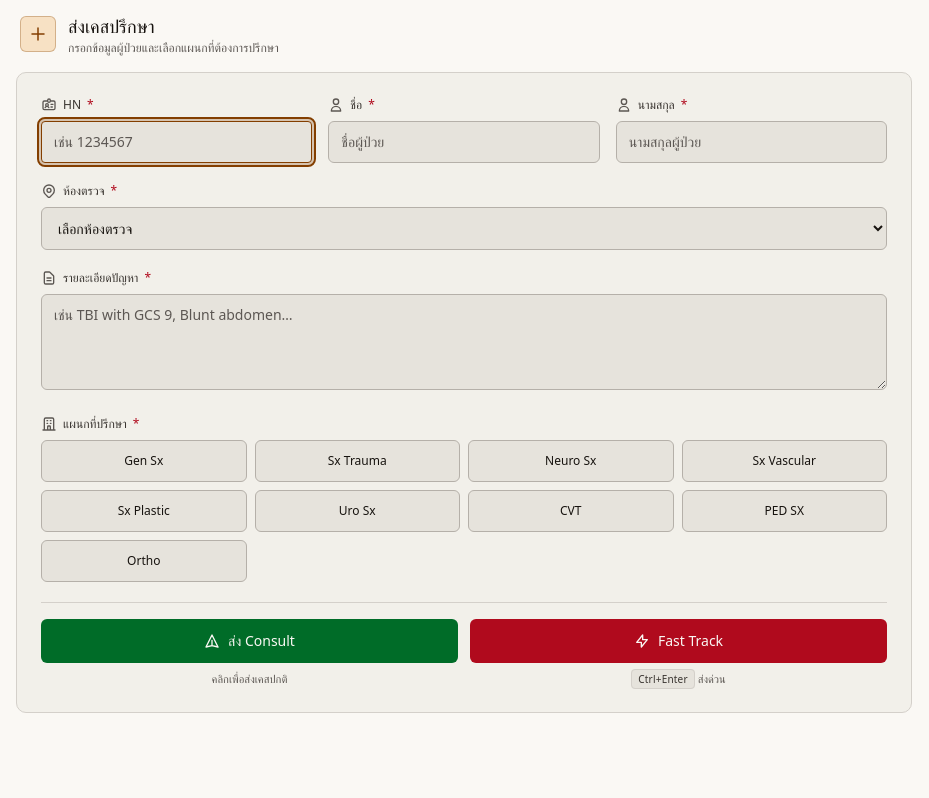
Test case: SubmitPage mount and redirect safety › does not overwrite dirty form when background failure arrives, offering explicit restore instead
Note: User starts typing a new consult while earlier submission is still settling
Type "999999" into the field labelled "HN *".
click(177, 142); type("999999")  # box [41, 121, 312, 163]
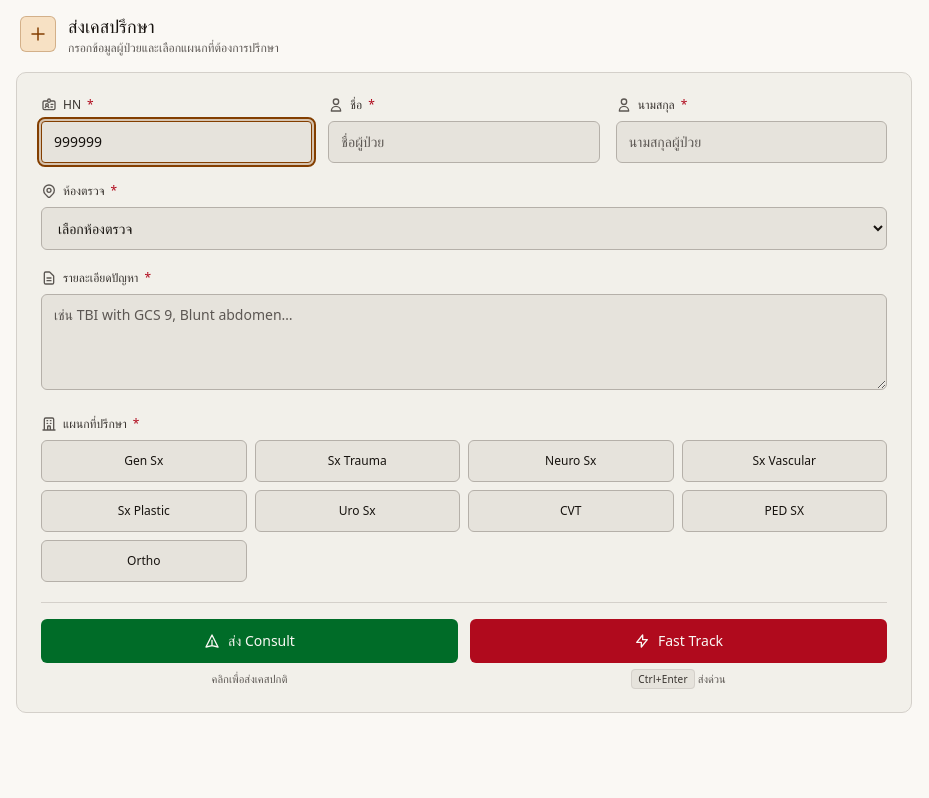
Type "ผู้ป่วยใหม่" into the field with placeholder "ชื่อผู้ป่วย".
click(464, 142); type("ผู้ป่วยใหม่")  # box [328, 121, 600, 163]
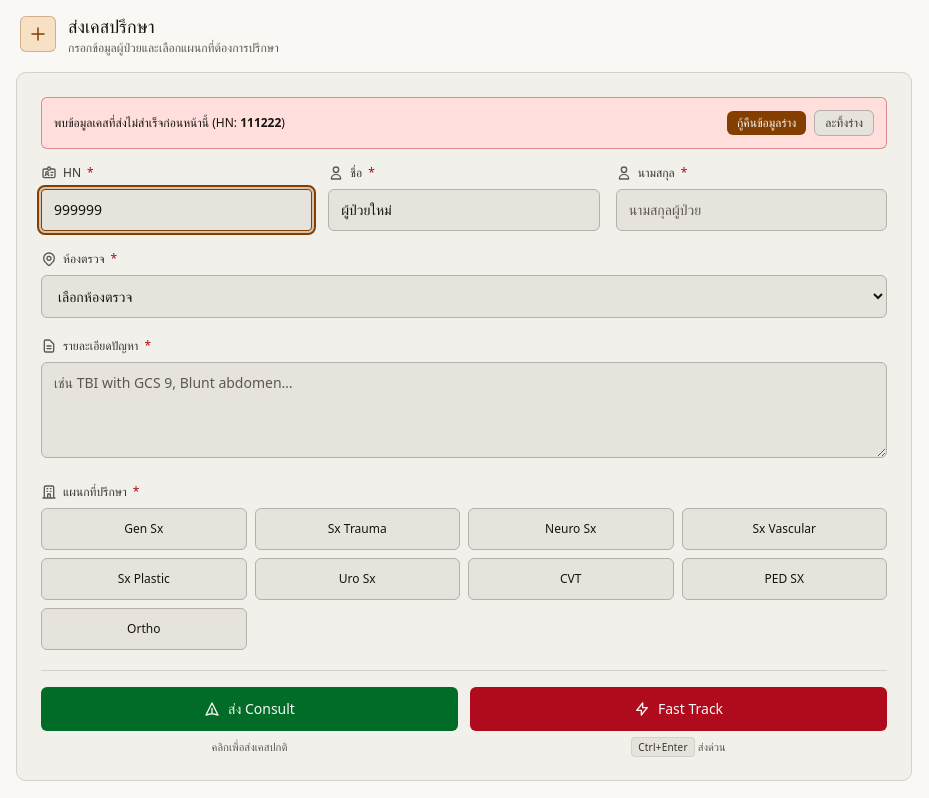
Note: Explicit restore button is shown and restores the draft on click
Click the button "กู้คืนข้อมูลร่าง".
click(767, 123)  # box [727, 111, 806, 135]
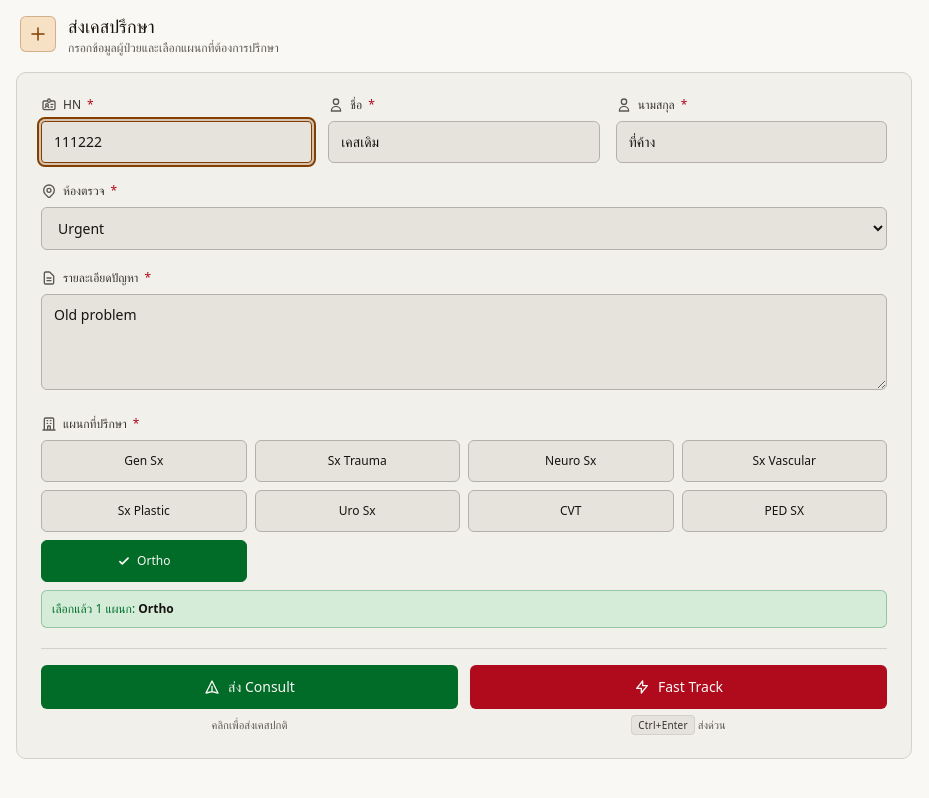
Expected: the field labelled "HN *" holds "111222", [41, 121, 312, 163]
Expected: the field with placeholder "ชื่อผู้ป่วย" holds "เคสเดิม", [328, 121, 600, 163]
Expected: the checkbox labelled "Ortho" is checked, [41, 540, 246, 582]
